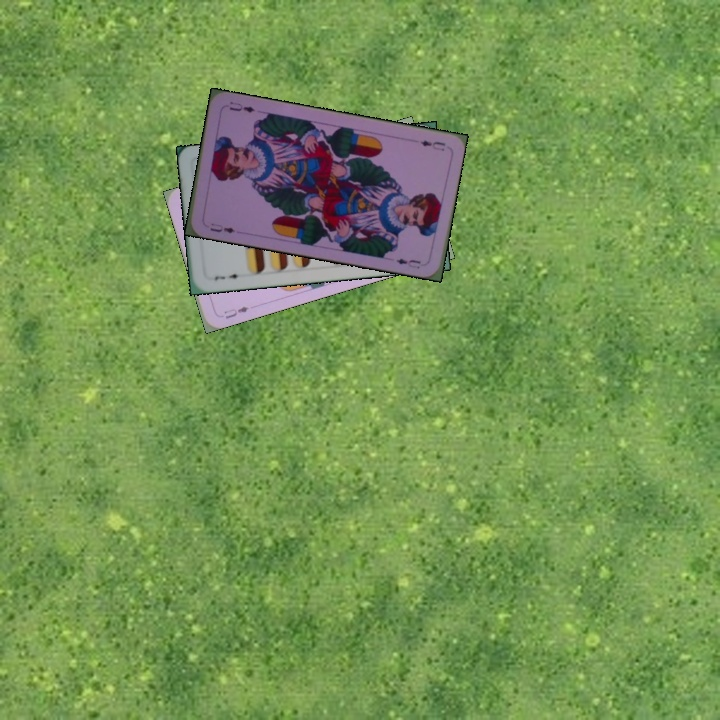E7: (210, 270, 245, 283)
EU: (220, 302, 251, 321), (416, 136, 448, 154), (206, 219, 238, 236)
